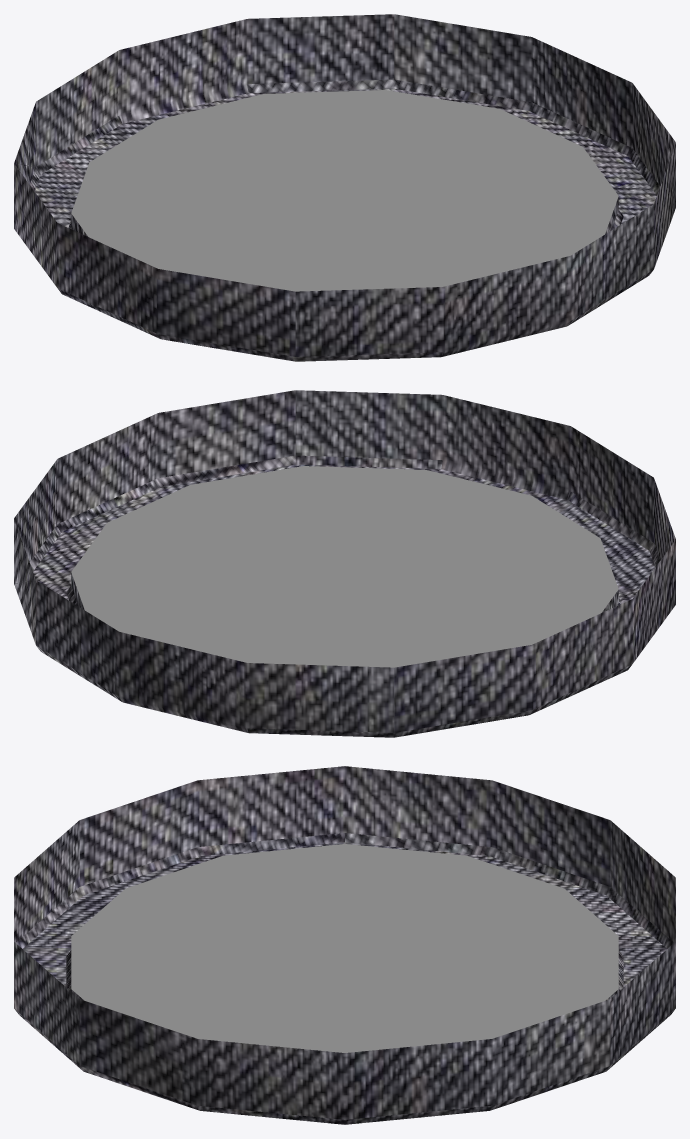
The model's file is PROPS_corridorlight_01.FBX.
3 renders of one model, top to bottom at view 1: azimuth 30°, elevation 25°; view 2: azimuth 150°, elevation 25°; view 3: azimuth 270°, elevation 25°, orthographic. The views are drawn at different scales.
Parts seen in each view (by area): view 1: PROPS_corridorLight_01; view 2: PROPS_corridorLight_01; view 3: PROPS_corridorLight_01.
Part boxes in pixels (x1,y1,x2,y2): PROPS_corridorLight_01: (14,14,675,361); PROPS_corridorLight_01: (14,390,675,737); PROPS_corridorLight_01: (14,766,675,1124).
Size of the model in its own units: 57.25 by 6.88 by 55.82.
2 materials, 1 textured.
